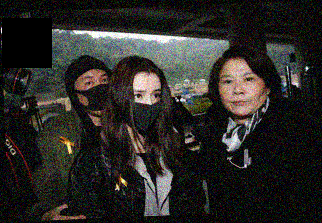with_mask: (124, 87, 166, 135), (74, 72, 114, 119)
without_mask: (217, 71, 269, 118)
